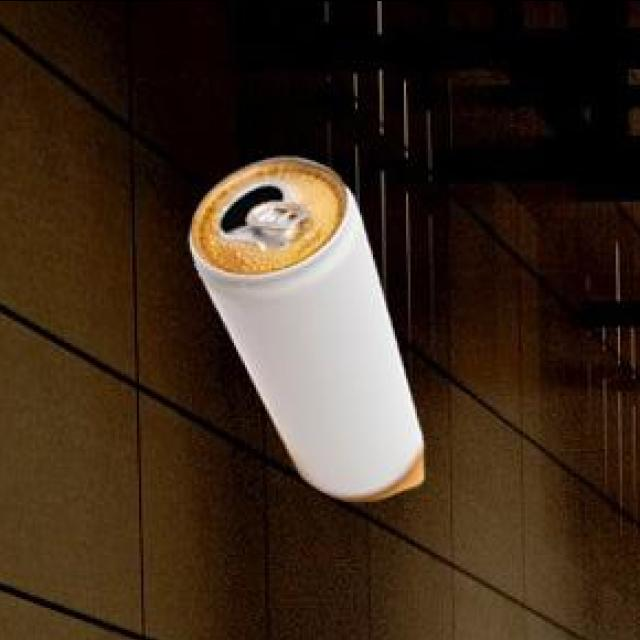logam: (193, 160, 427, 504)
